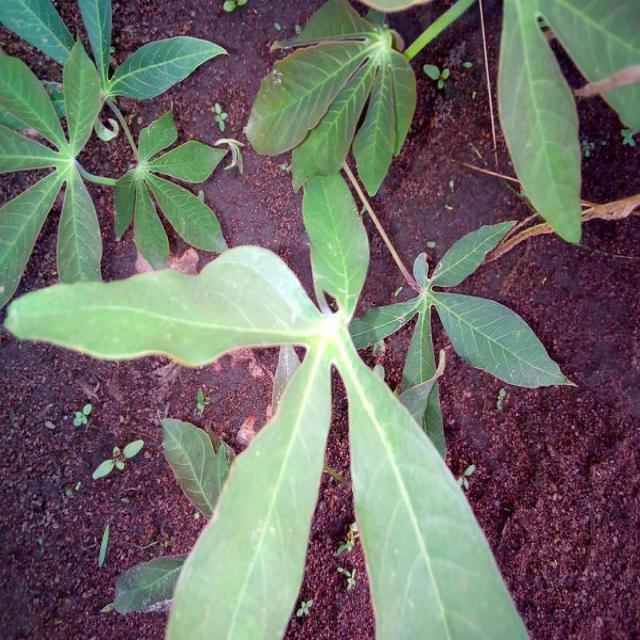cassava leaf: (332, 321, 530, 638)
